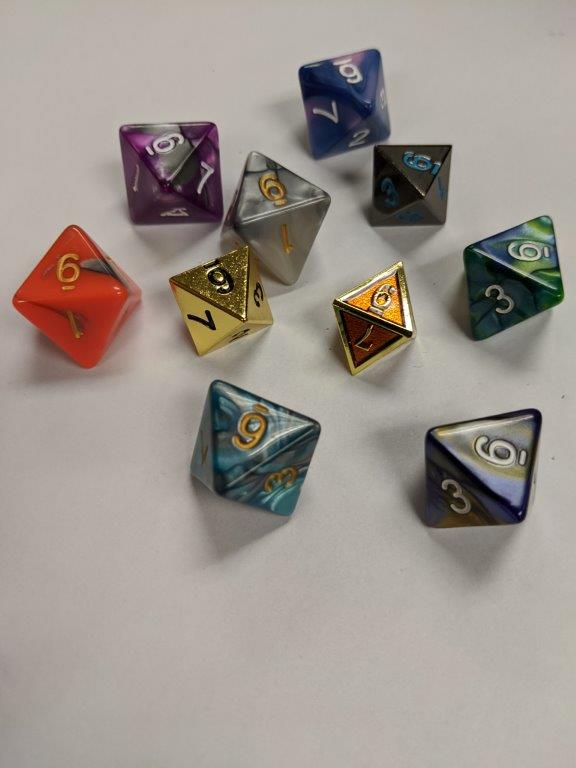d8-6: (11, 224, 144, 369), (192, 380, 320, 516), (224, 147, 330, 290), (424, 411, 542, 525), (463, 212, 565, 340), (167, 246, 274, 362), (297, 46, 392, 163), (120, 121, 223, 227), (329, 263, 414, 374), (374, 145, 451, 230)
